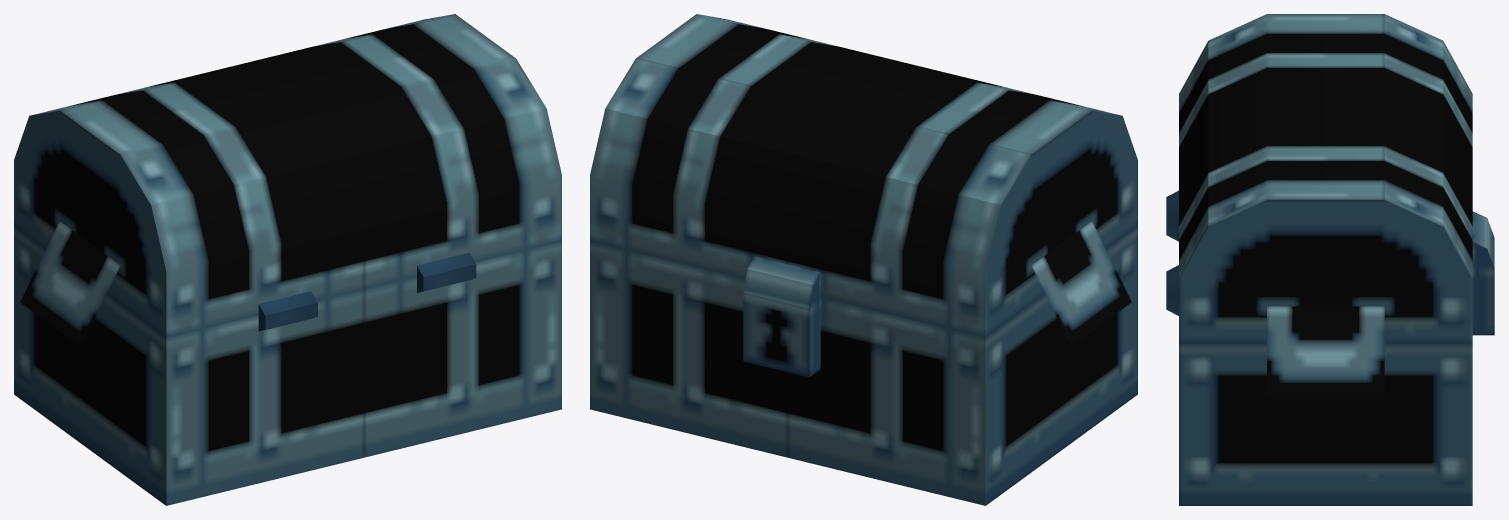
The model's file is Chest.fbx.
3 renders of one model, left to right at view 1: azimuth 30°, elevation 25°; view 2: azimuth 150°, elevation 25°; view 3: azimuth 270°, elevation 25°, orthographic. The views are drawn at different scales.
Visible parts, largest first — view 1: Lid, Base, Handles; view 2: Lid, Base, Handles; view 3: Lid, Base, Handles.
Boxes of the visible parts, bbox=[...] form: Lid: bbox=[14, 14, 561, 340]; Base: bbox=[14, 229, 561, 505]; Handles: bbox=[20, 221, 120, 346]; Lid: bbox=[590, 14, 1137, 340]; Base: bbox=[590, 229, 1137, 505]; Handles: bbox=[1031, 221, 1131, 346]; Lid: bbox=[1179, 14, 1494, 346]; Base: bbox=[1166, 190, 1494, 505]; Handles: bbox=[1267, 306, 1384, 394].
Bounding box in the file's own units: 18 × 11.5 × 11.18.
